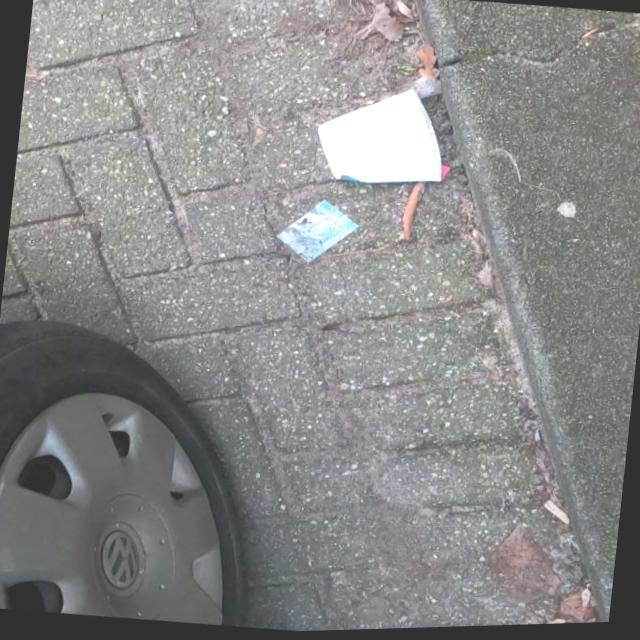Cup: (308, 79, 452, 196)
Paper: (533, 617, 608, 628)
